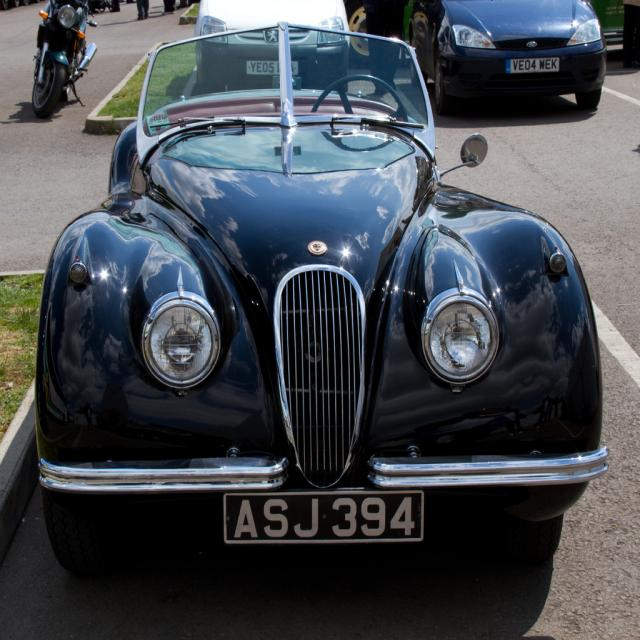Person: (361, 0, 410, 95), (135, 0, 151, 21), (160, 0, 177, 16), (177, 0, 187, 7)
